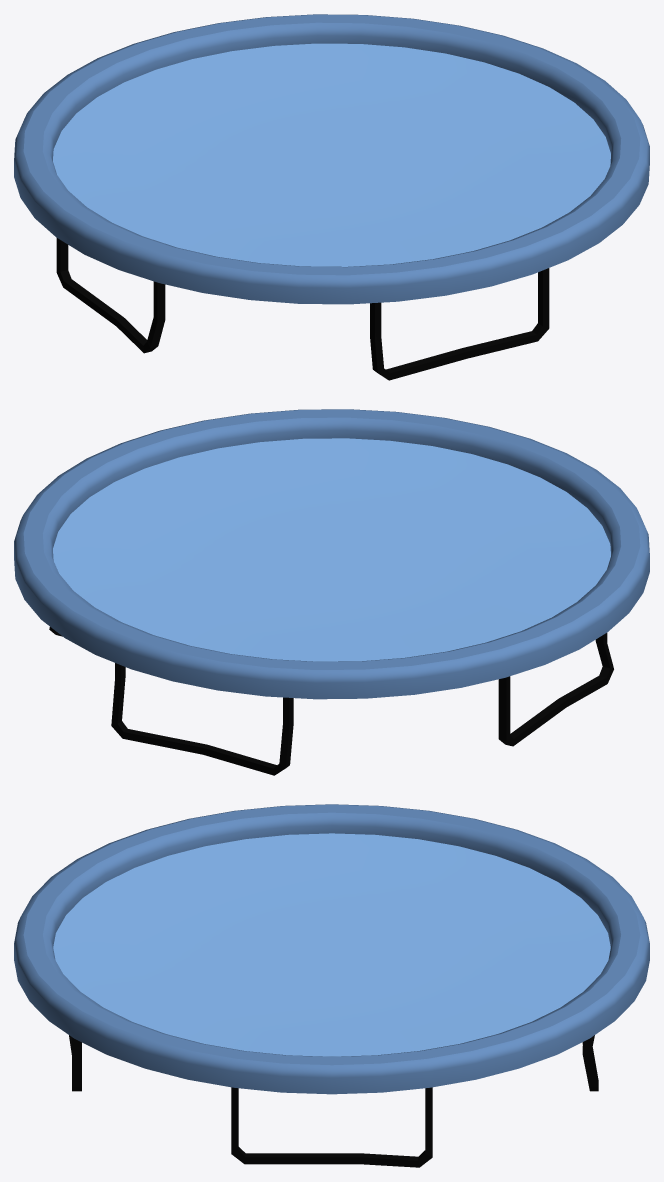
The model's file is bongchuang.fbx.
3 views of the same model, one above another, from view 1: azimuth 30°, elevation 25°; view 2: azimuth 150°, elevation 25°; view 3: azimuth 270°, elevation 25° (orthographic).
Visible parts, largest first — view 1: Trampoline1; view 2: Trampoline1; view 3: Trampoline1.
Part boxes in pixels (x1,y1,x2,y2): Trampoline1: [14, 14, 649, 380]; Trampoline1: [14, 409, 649, 775]; Trampoline1: [14, 804, 649, 1167].
Size of the model in its own units: 0.1083 by 0.0225 by 0.1083.
Materials: 1 (1 with a texture image).
